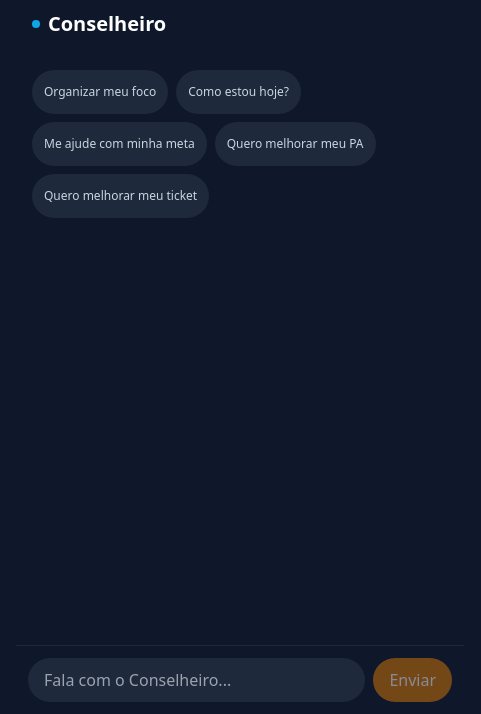
Test case: Coach › mostra erro genérico quando o tipo do erro não é mapeado
Type "Minha pergunta" into the field with placeholder "Fala com o Conselheiro...".
click(197, 680); type("Minha pergunta")  # box [28,658,365,702]
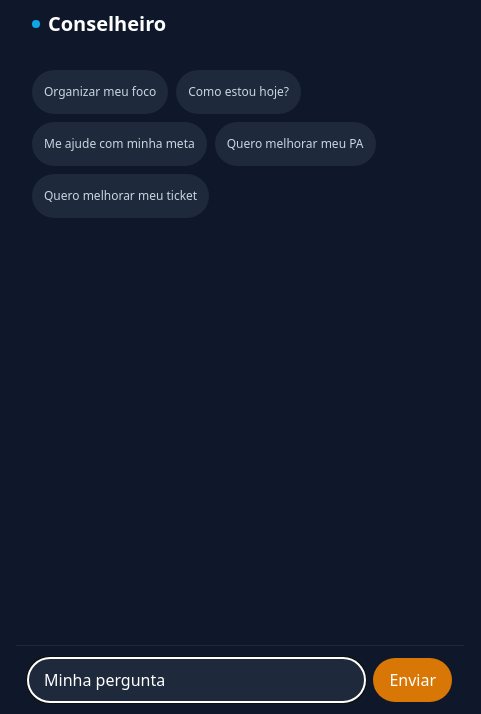
Click the button "Enviar".
click(413, 680)  # box [373,658,452,702]
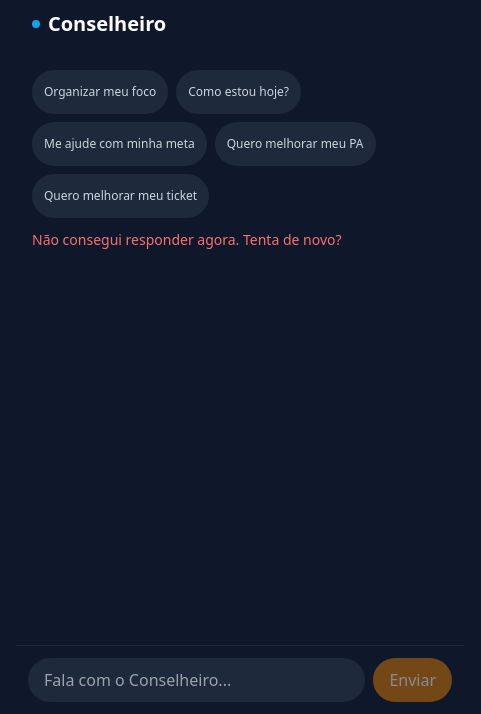
Expected: the message reads "Não consegui responder agora. Tenta de novo?", [32,230,342,249]
